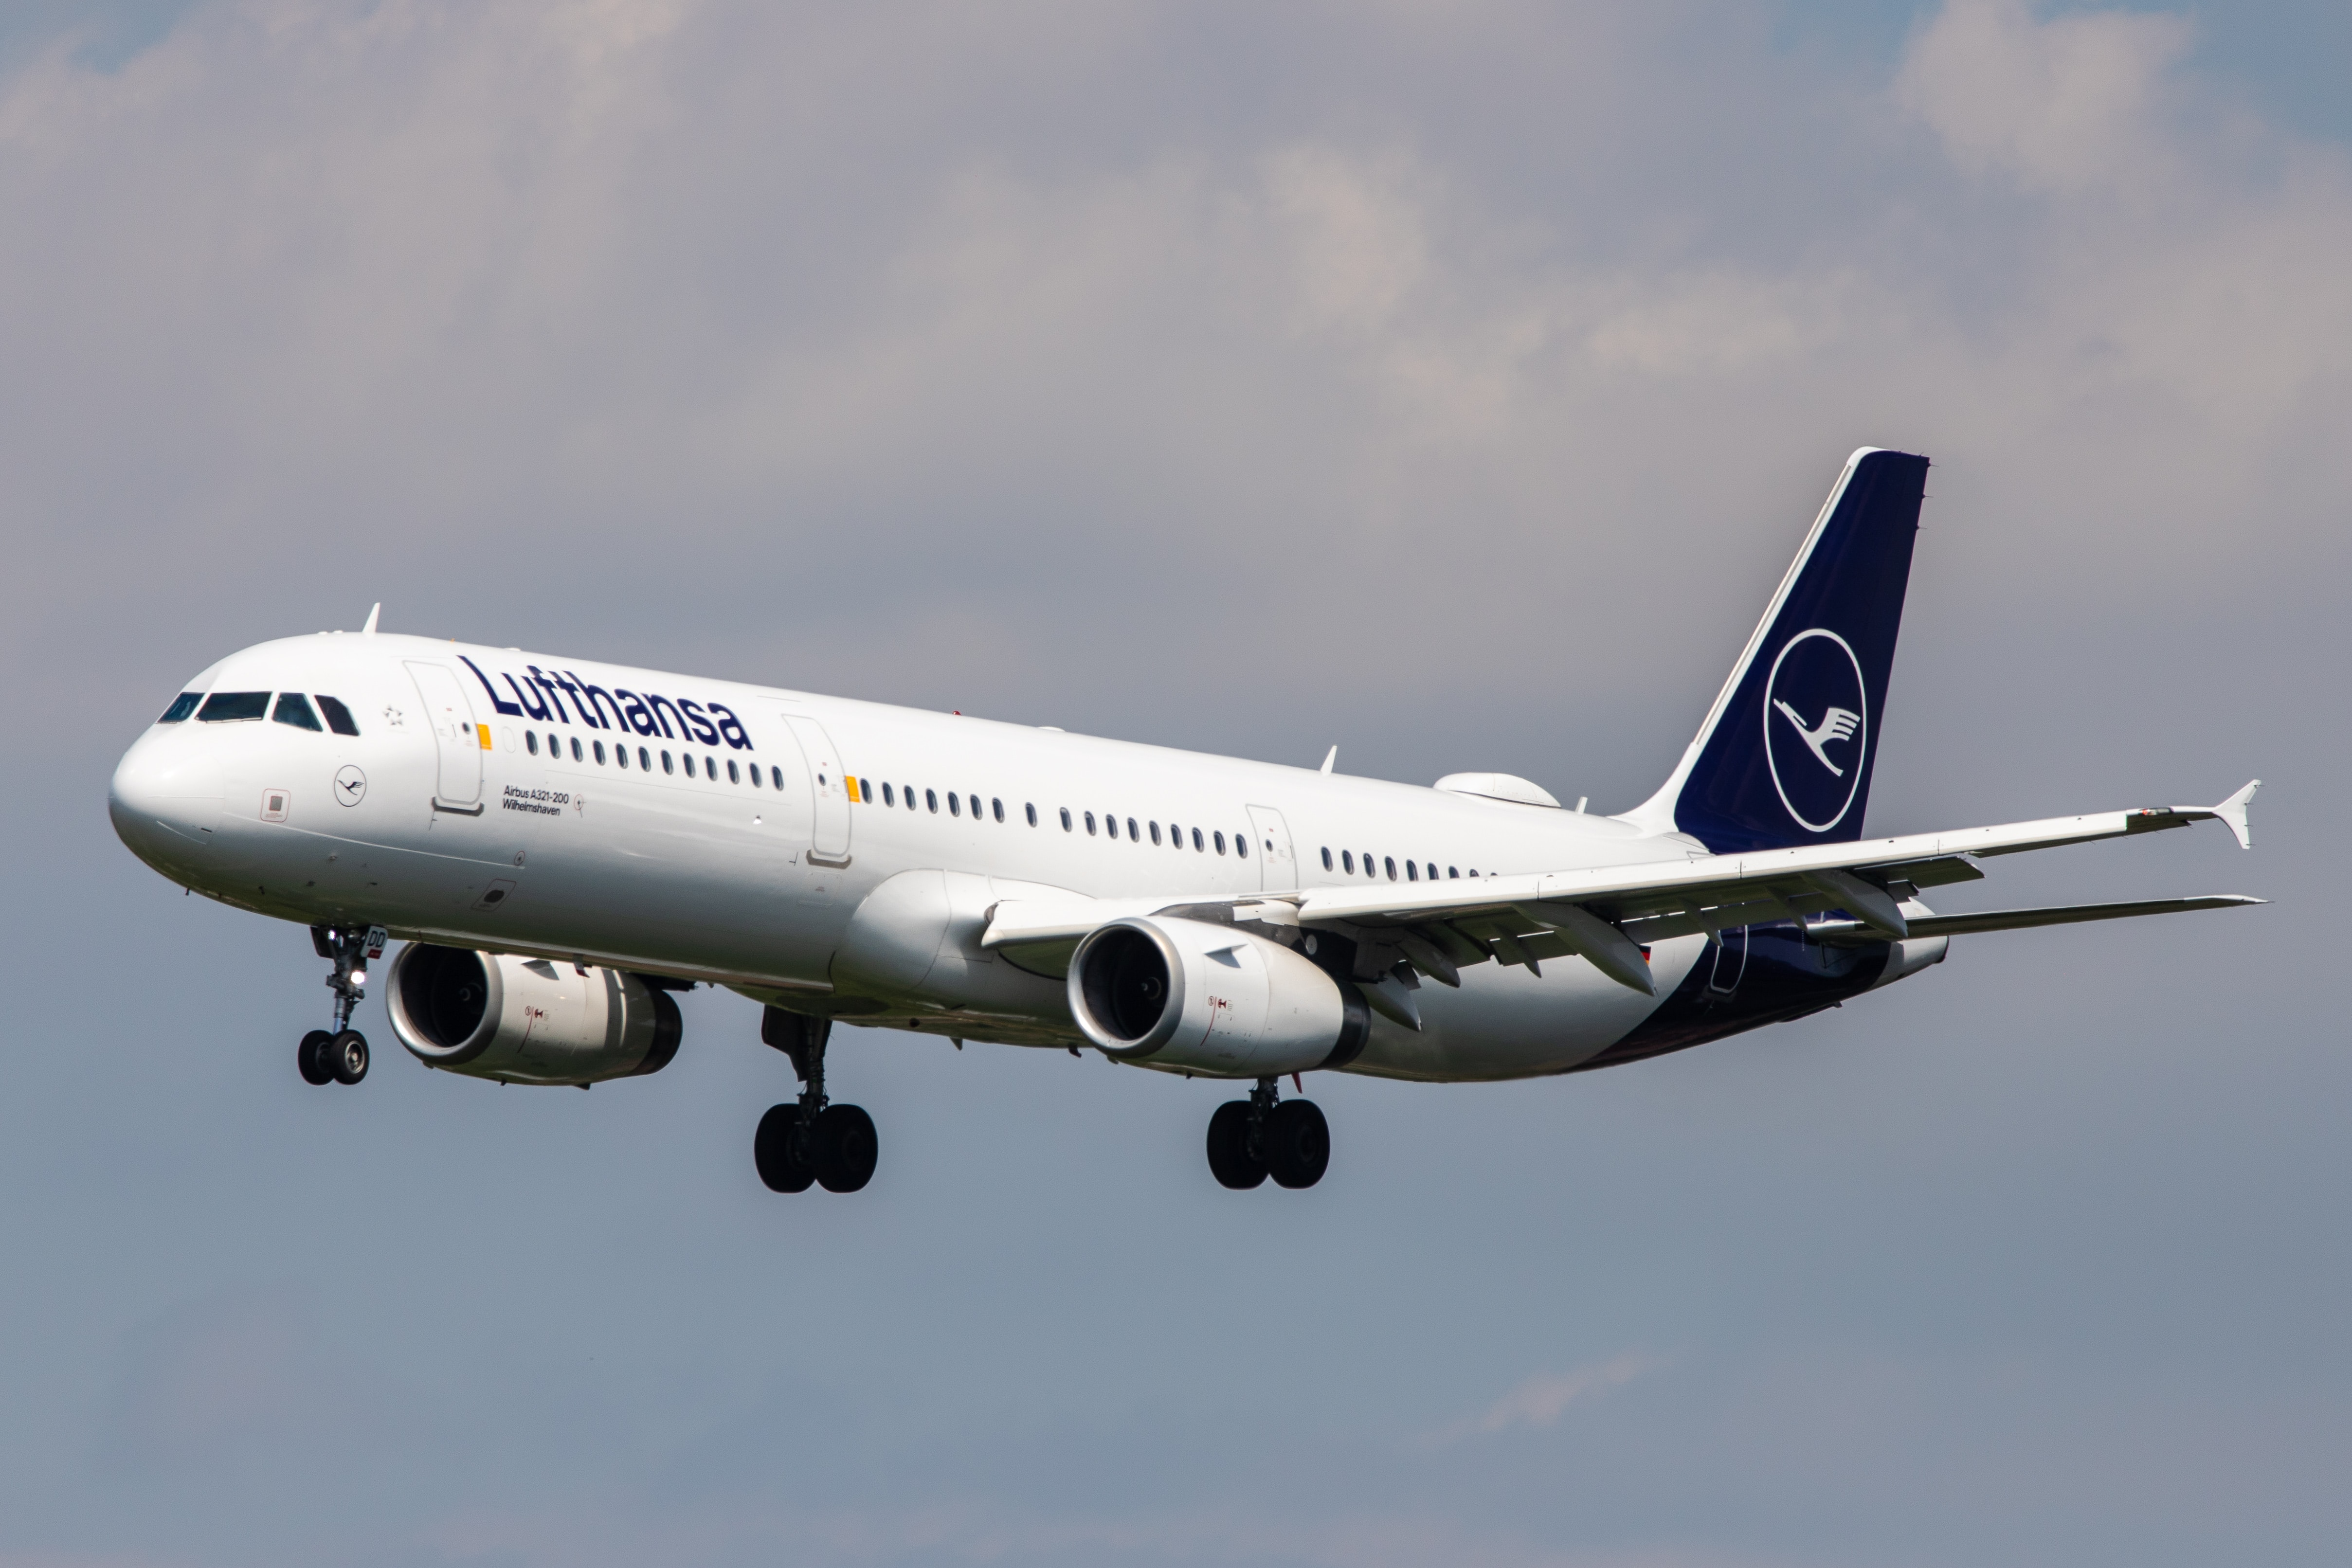airplane: (98, 185, 2315, 1246)
